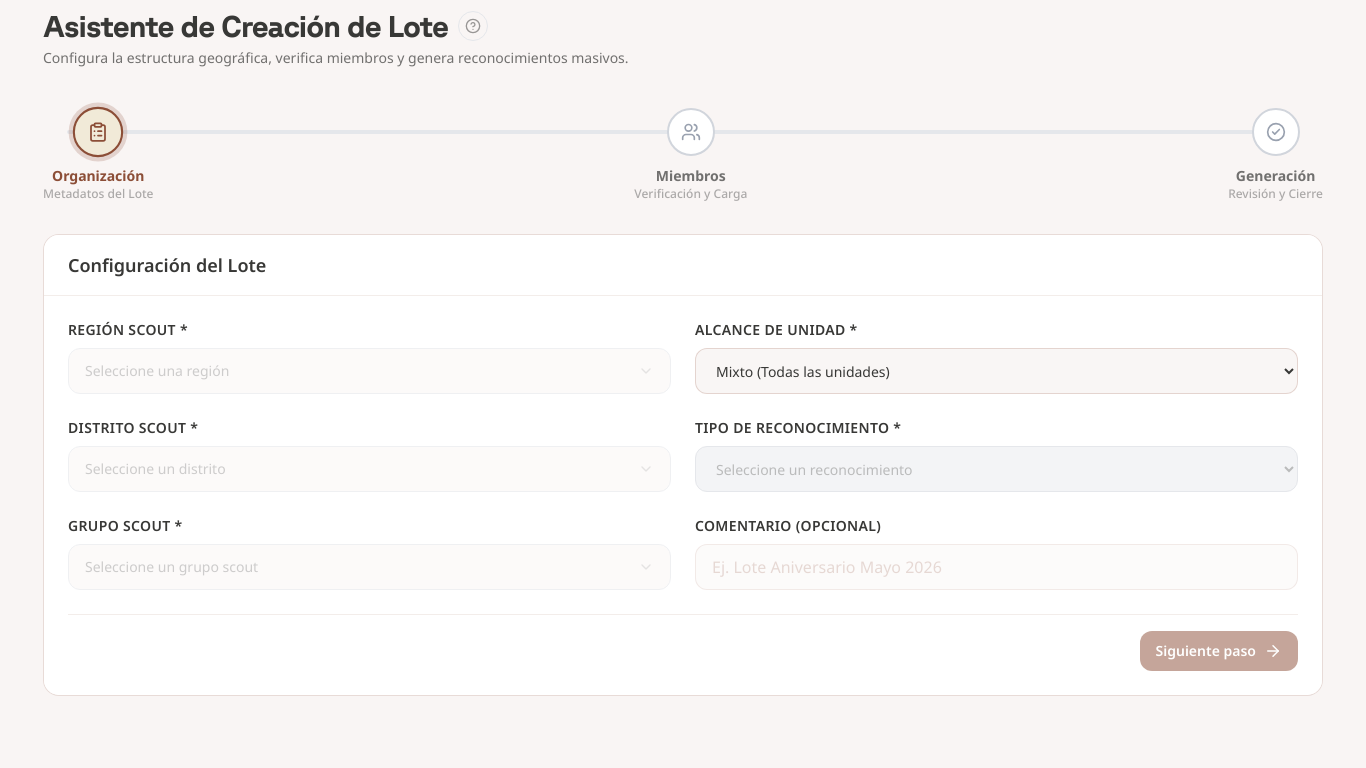
NewBatchWizard full flow › Walkthrough Interactive Guide › starts and steps through the 4-step walkthrough tour upon clicking the help button
The width and height of the screenshot is (1366, 768).
Check: the heading "Asistente de Creación de Lote" is shown, box 43,8 -> 448,44
What coordinates should you click on to do the following:
click the button named "Ver guía interactiva"
I would click on:
 (473, 26)
Its box is 458,11 -> 488,41.
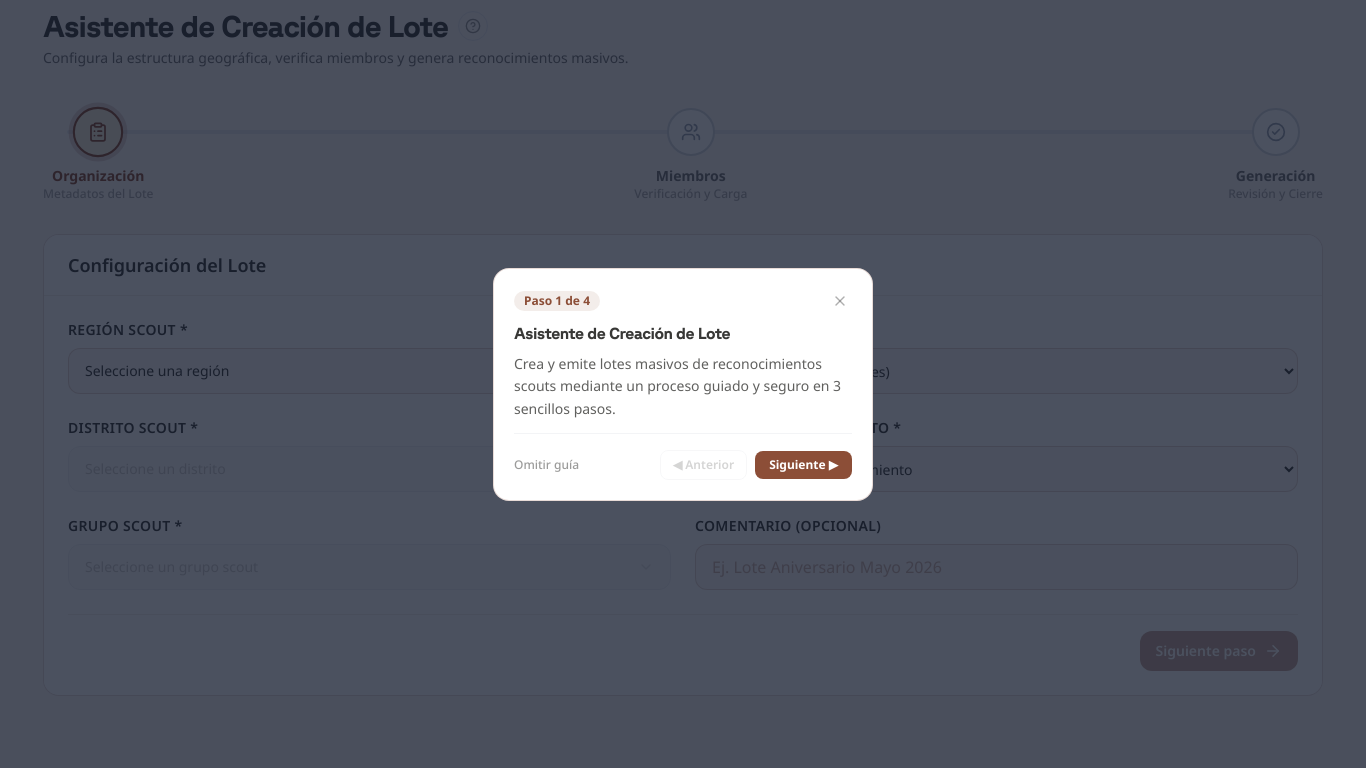
Check: the text "Paso 1 de 4" is shown, box 514,290 -> 600,310
Check: the text "Crea y emite lotes masivos de reconocimientos scouts mediante un proceso guiado y seguro en 3 sencillos pasos." is shown, box 514,354 -> 841,418
What coordinates should you click on to do the following:
click the button "Siguiente ▶"
I would click on:
 (804, 465)
Its box is 755,451 -> 852,479.
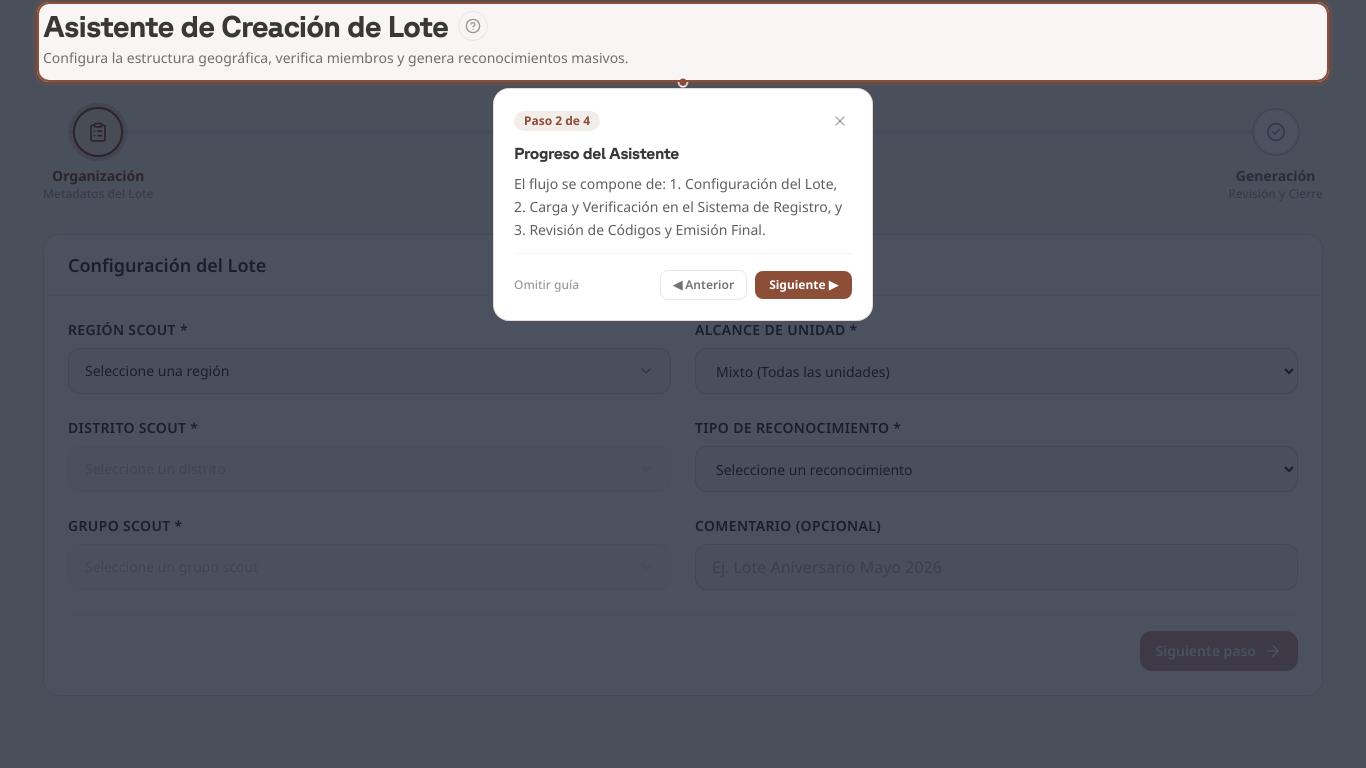
Check: the heading "Progreso del Asistente" is shown, box 514,144 -> 679,162
Check: the text "Paso 2 de 4" is shown, box 514,111 -> 600,131
Check: the text "El flujo se compone de: 1. Configuración del Lote, 2. Carga y Verificación en el Sistema de Registro, y 3. Revisión de C" is shown, box 514,174 -> 842,238
What coordinates should you click on to do the following:
click the button "Siguiente ▶"
I would click on:
 (804, 285)
Its box is 755,271 -> 852,299.
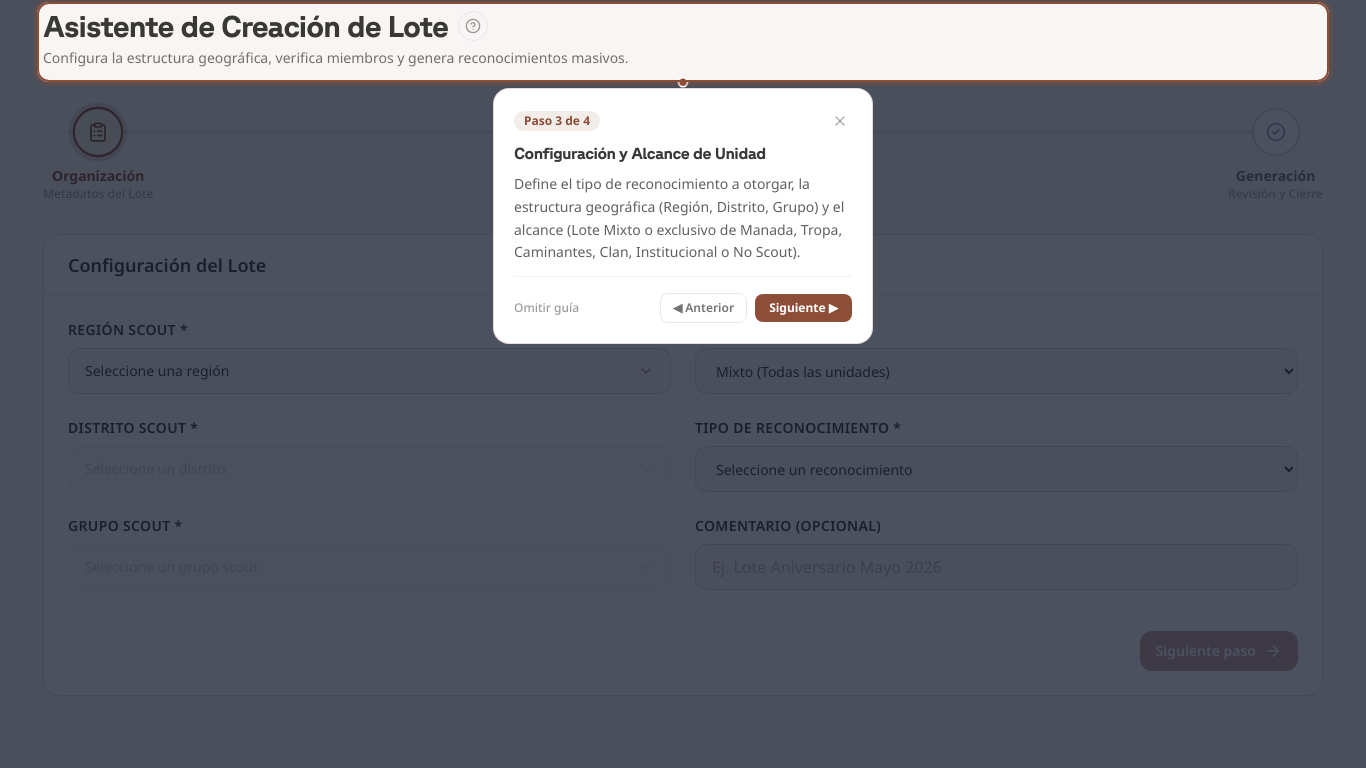
Check: the heading "Configuración y Alcance de Unidad" is shown, box 514,144 -> 766,162
Check: the text "Paso 3 de 4" is shown, box 514,111 -> 600,131
Check: the text "Define el tipo de reconocimiento a otorgar, la estructura geográfica (Región, Distrito, Grupo) y el alcance (Lote Mixto " is shown, box 514,174 -> 844,261
What coordinates should you click on to do the following:
click the button "Siguiente ▶"
I would click on:
 (804, 308)
Its box is 755,294 -> 852,322.
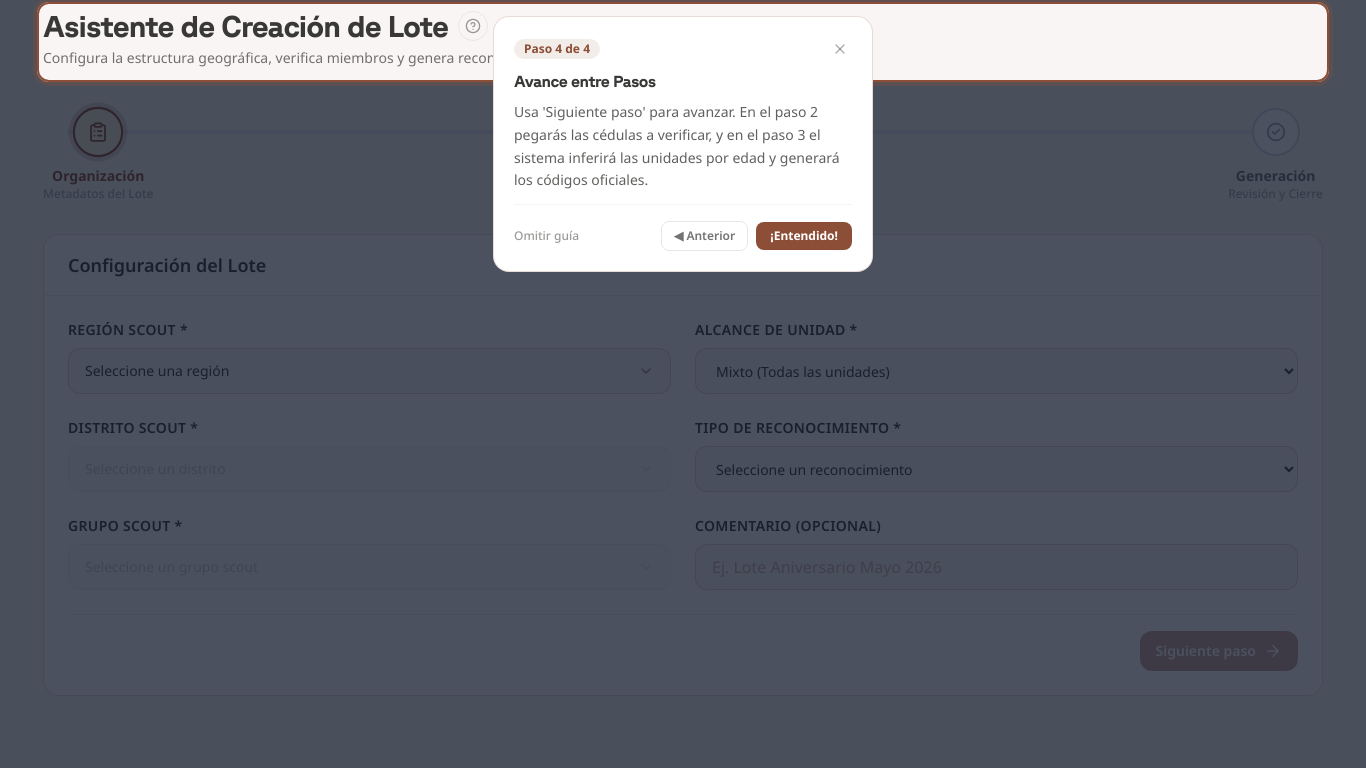
Check: the heading "Avance entre Pasos" is shown, box 514,72 -> 656,90
Check: the text "Paso 4 de 4" is shown, box 514,39 -> 600,59
Check: the text "Usa 'Siguiente paso' para avanzar. En el paso 2 pegarás las cédulas a verificar, y en el paso 3 el sistema inferirá las " is shown, box 514,102 -> 840,189
# Complete tour
What coordinates should you click on to do the following:
click the button "¡Entendido!"
I would click on:
 (804, 236)
Its box is 756,222 -> 852,250.
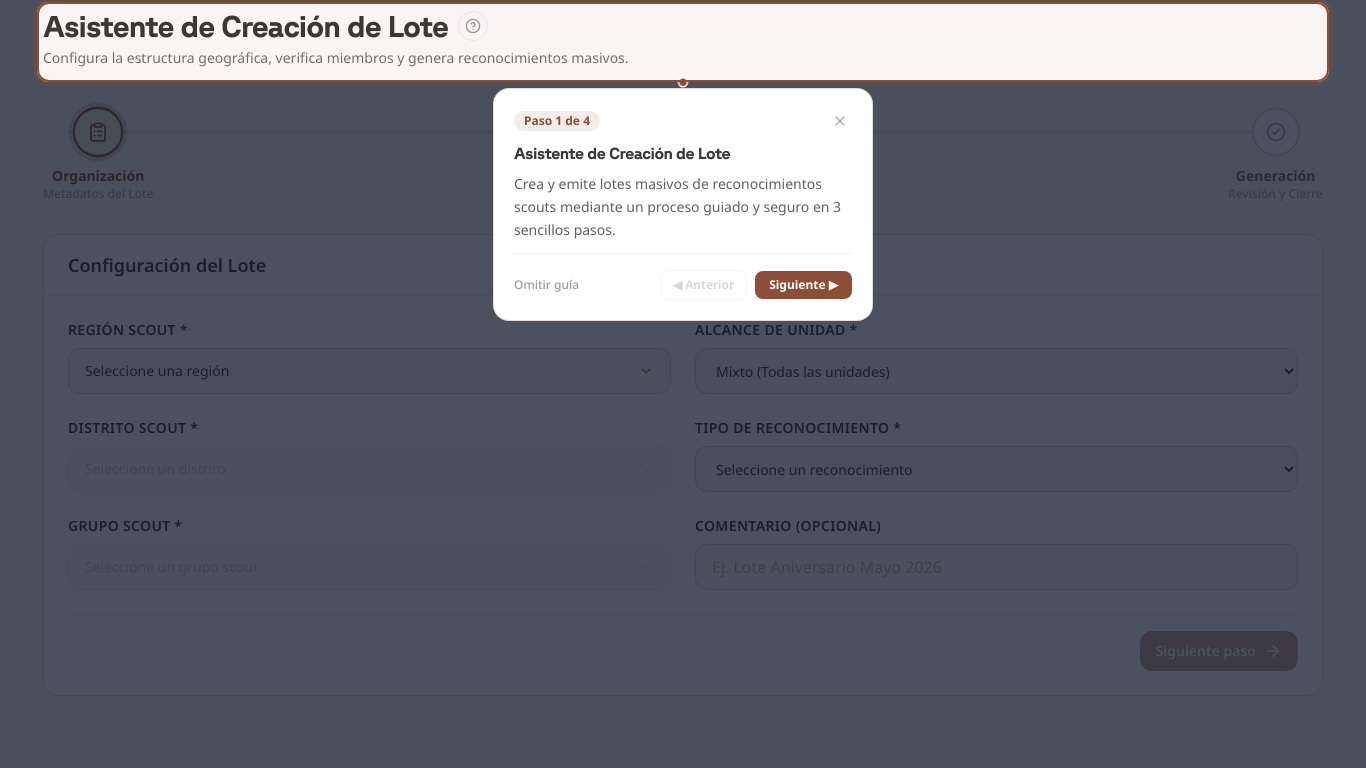
Check: the heading "Avance entre Pasos" is gone
